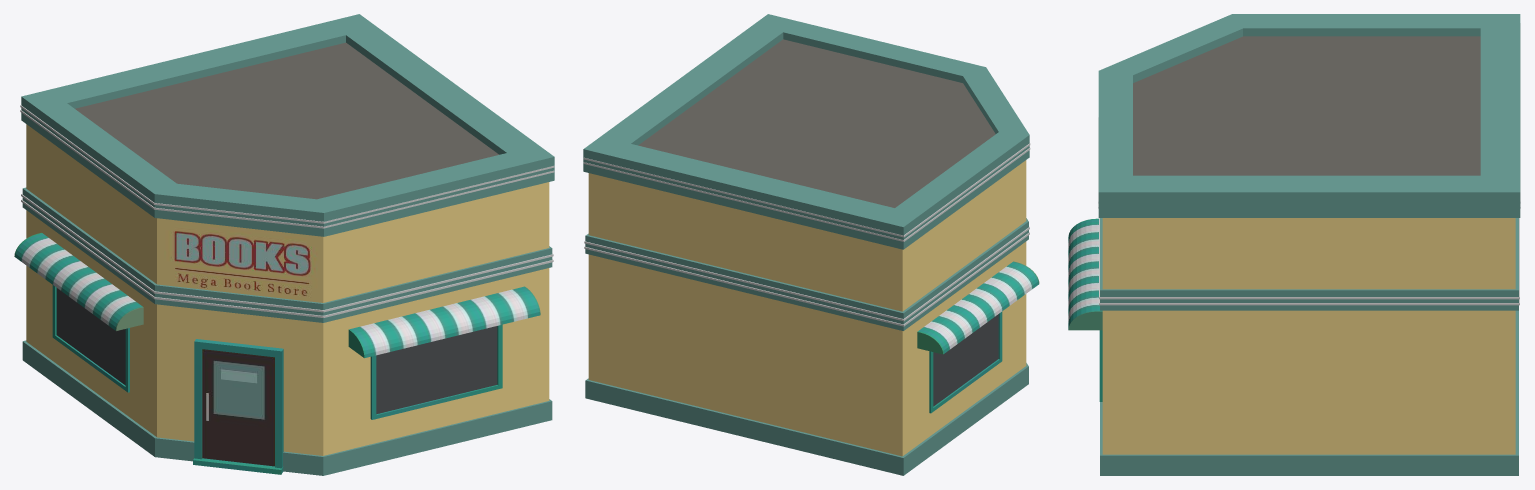
Rendered from Building_Books Shop.glb.
3 renders of one model, left to right at view 1: azimuth 30°, elevation 25°; view 2: azimuth 150°, elevation 25°; view 3: azimuth 270°, elevation 25°, orthographic. The views are drawn at different scales.
Parts seen in each view (by area): view 1: Building_Books Shop; view 2: Building_Books Shop; view 3: Building_Books Shop.
Part boxes in pixels (box(x1,y1,x2,y2)): Building_Books Shop: box(14, 14, 554, 475); Building_Books Shop: box(583, 14, 1039, 475); Building_Books Shop: box(1068, 14, 1520, 475).
Size of the model in its own units: 0.9631 by 0.6686 by 0.9628.
Materials: 1 (1 with a texture image).
